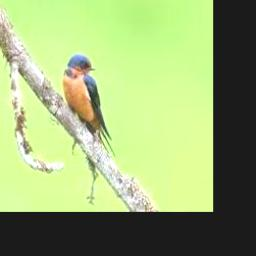Swallow: (62, 54, 115, 160)
